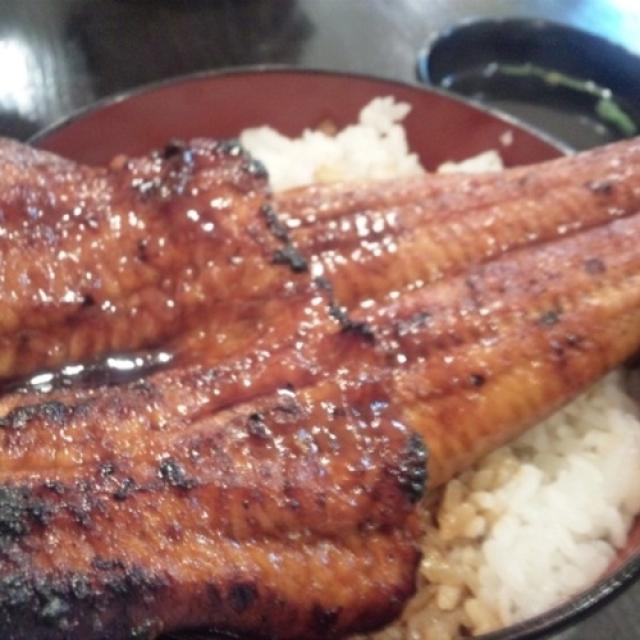熟制海鲜: (9, 37, 627, 618)
